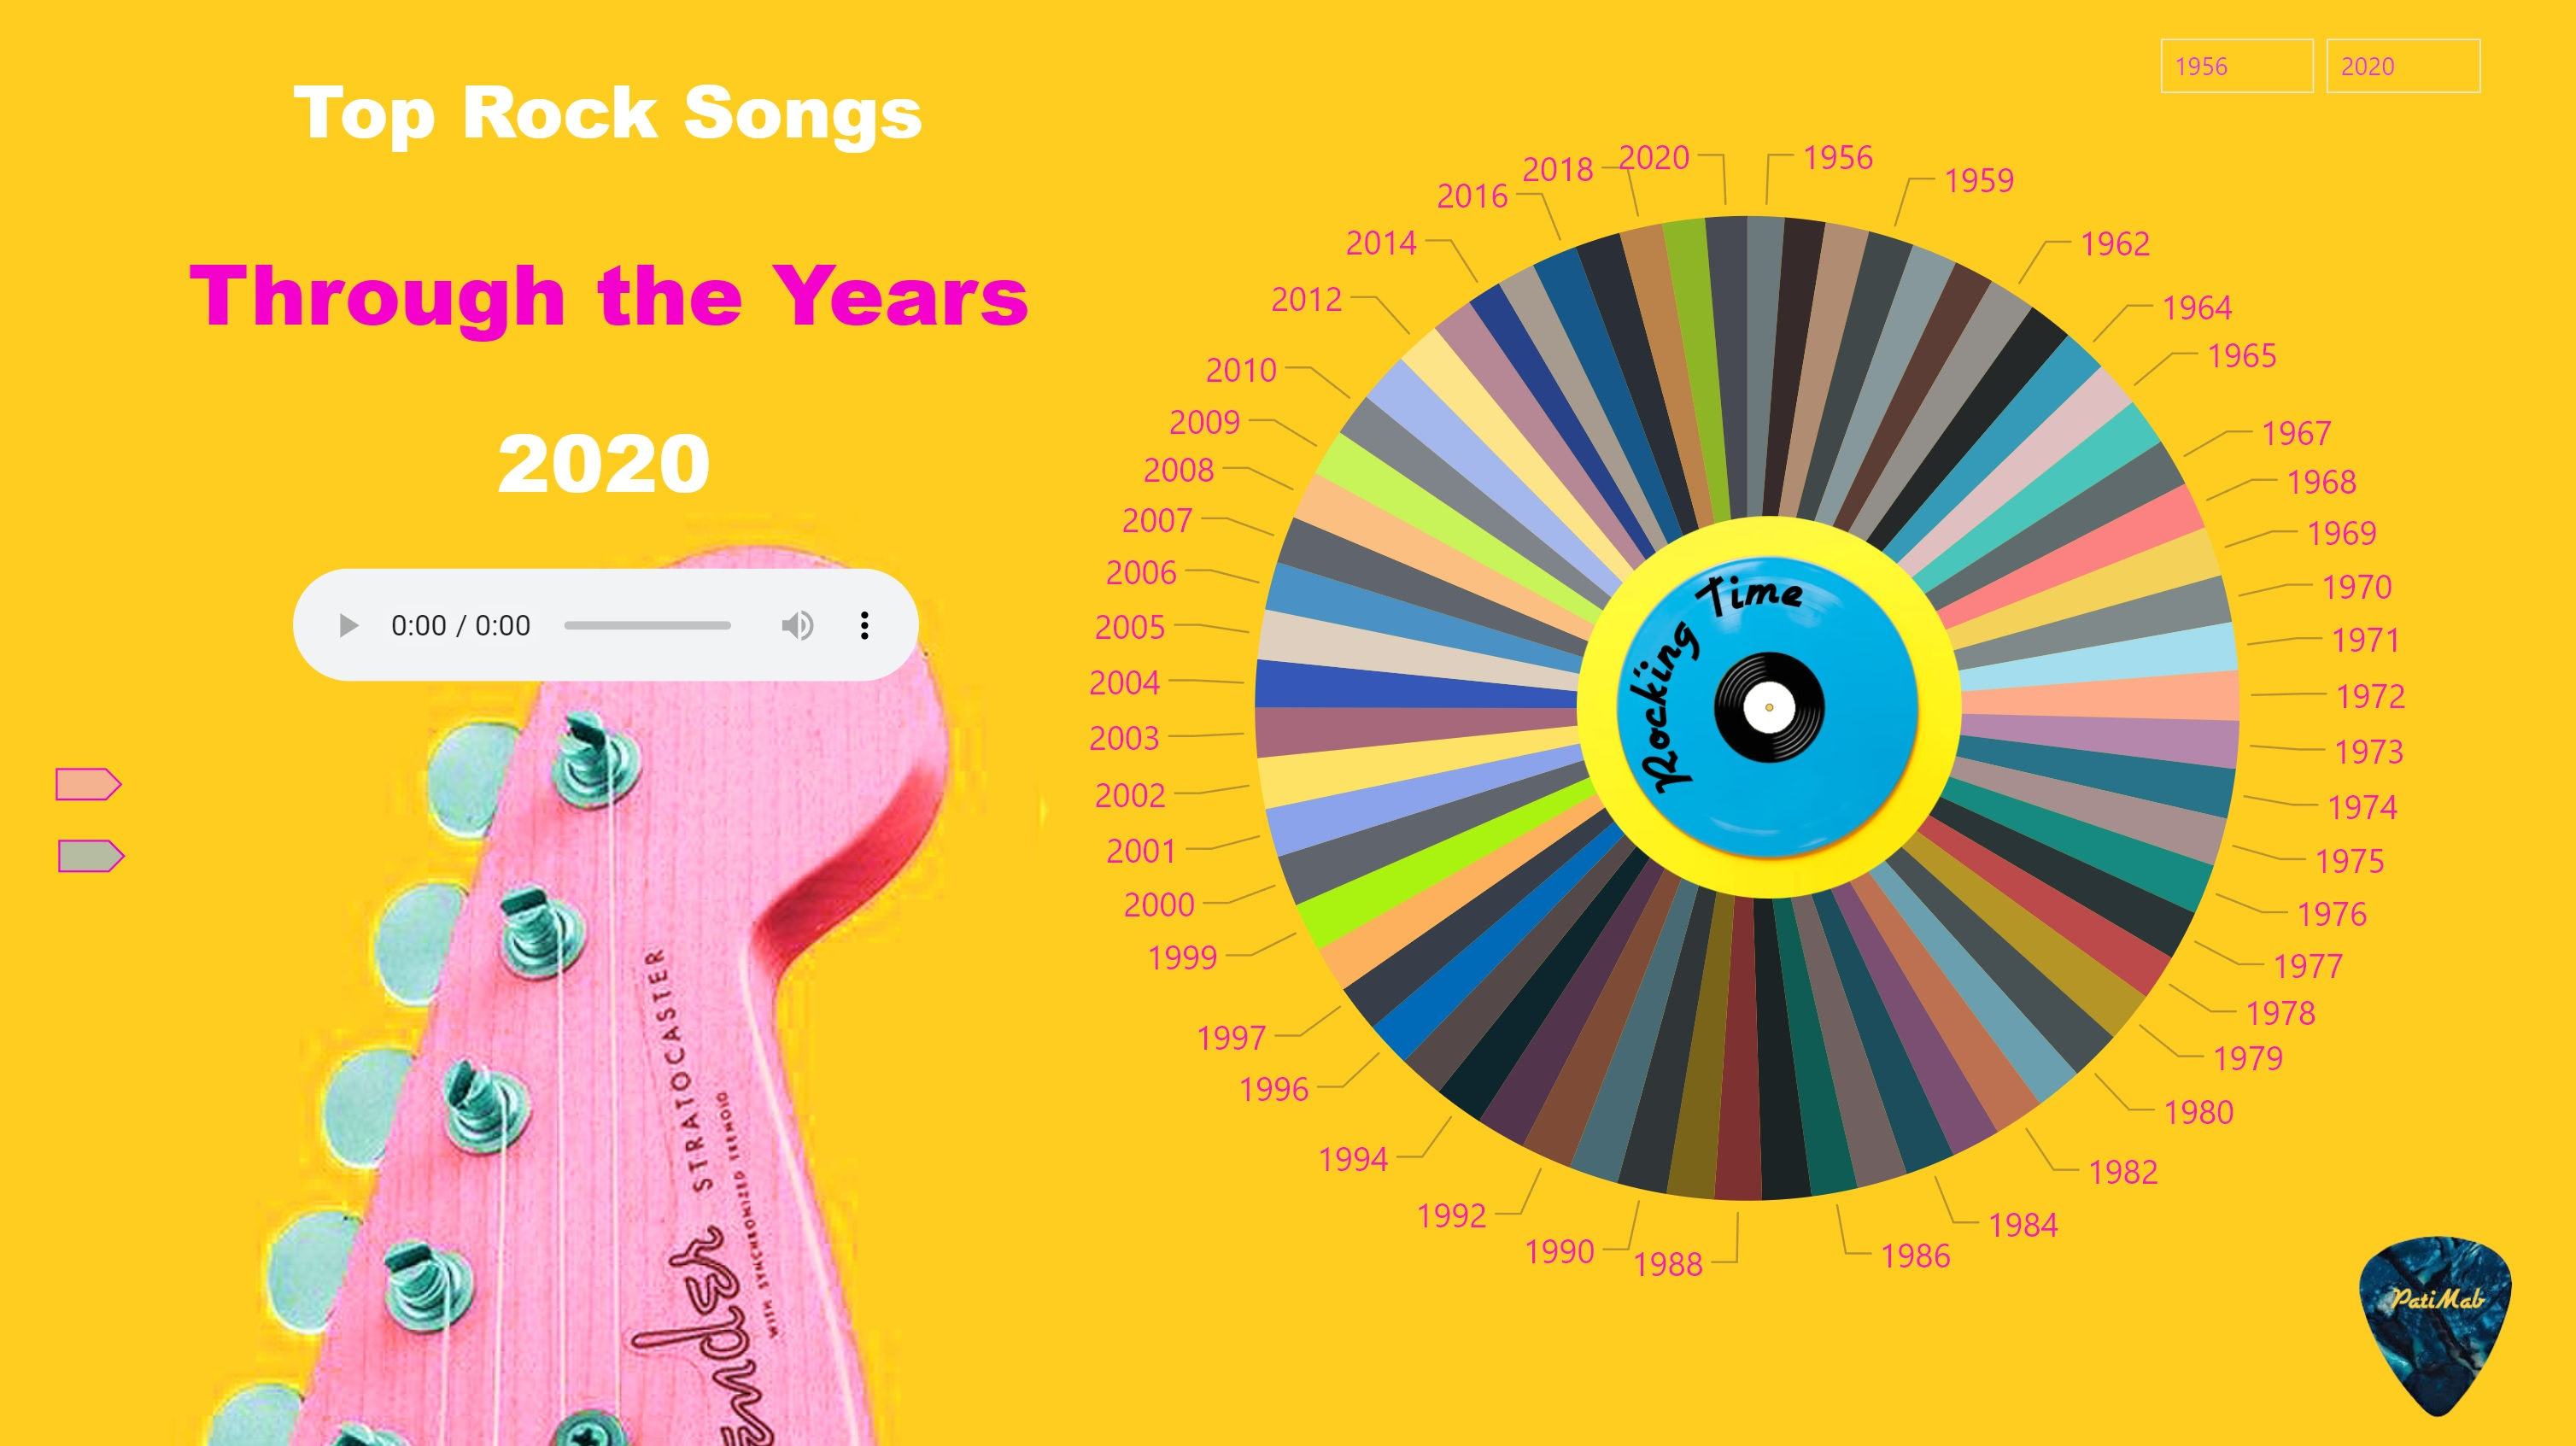

What the dashboard file says about the page in this screenshot:
{"tool":"powerbi","page":{"name":"Popularidad por Año","canvas":[1280,720],"ordinal":1},"visuals":[{"type":"image","box":[20.1,14.2,1259.9,706.4],"z":0},{"type":"card","fields":{"Values":["Max(popularity_table.date.Variation.Date Hierarchy.Year)"]},"box":[250.8,219.3,143.9,43.9],"z":1000},{"type":"pieChart","fields":{"Category":["popularity_table.Year.Variation.Date Hierarchy.Year"],"Y":["Max(popularity_table.popularity)"]},"box":[481.2,0,777.7,720],"z":2000},{"type":"card","fields":{"Values":["popularity_table.Selected Artist"]},"box":[83.1,14.4,482.6,118.3],"z":3000},{"type":"card","fields":{"Values":["popularity_table.Selected Song"]},"box":[55.1,101.1,538.9,117.9],"z":4000},{"type":"STANDALONEhtmlContent443BE3AD55E043BF878BED274D3A6855","fields":{"content":["popularity_table.HTMLContent"]},"box":[168.3,288.1,312.4,71.4],"z":5000},{"type":"image","box":[780.4,264.6,195.2,194.6],"z":6000},{"type":"shape","box":[54.8,383.7,42.5,26],"z":8000},{"type":"shape","box":[55.7,418.4,42.7,26.1],"z":10000},{"type":"image","box":[1153.8,606.9,93.5,99.2],"z":11000},{"type":"slicer","fields":{"Values":["popularity_table.Year_extract"]},"box":[1055.4,29.6,196.3,71.6],"z":16000}]}

Visuals, with their boxes in screenshot pixels (x1, y1, x2, y2), scaled from the page's 1280x720 canvas onto the 2576x1446 screenshot:
image: {"left": 40, "top": 28, "right": 2575, "bottom": 1445}
card - Max(popularity_table.date.Variation.Date Hierarchy.Year): {"left": 505, "top": 441, "right": 794, "bottom": 529}
pieChart - popularity_table.Year.Variation.Date Hierarchy.Year x Max(popularity_table.popularity): {"left": 969, "top": 0, "right": 2533, "bottom": 1445}
card - popularity_table.Selected Artist: {"left": 167, "top": 29, "right": 1139, "bottom": 266}
card - popularity_table.Selected Song: {"left": 111, "top": 203, "right": 1196, "bottom": 440}
STANDALONEhtmlContent443BE3AD55E043BF878BED274D3A6855 - popularity_table.HTMLContent: {"left": 339, "top": 578, "right": 968, "bottom": 722}
image: {"left": 1571, "top": 531, "right": 1964, "bottom": 922}
shape: {"left": 110, "top": 770, "right": 196, "bottom": 823}
shape: {"left": 112, "top": 840, "right": 198, "bottom": 893}
image: {"left": 2322, "top": 1219, "right": 2510, "bottom": 1418}
slicer - popularity_table.Year_extract: {"left": 2124, "top": 60, "right": 2519, "bottom": 203}
